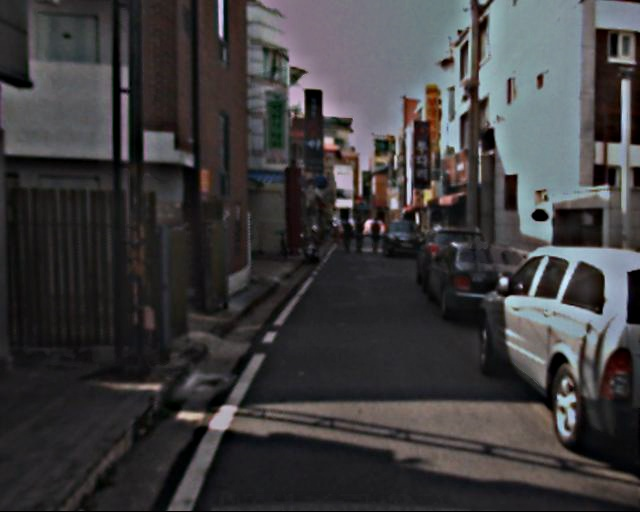person: (369, 219, 385, 257), (339, 220, 354, 257), (353, 220, 367, 255)
